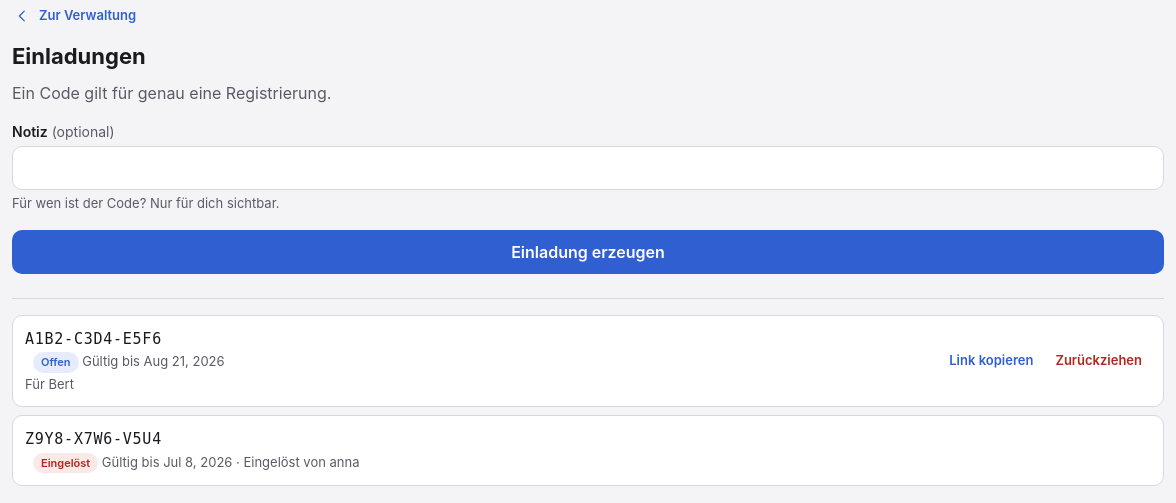
Test: the administration › copies a registration link rather than the bare code
The width and height of the screenshot is (1176, 503).
Check: the text "A1B2-C3D4-E5F6" is shown, box [25, 330, 162, 348]
Click the button "Link kopieren" at (991,361), box [940, 345, 1042, 377]
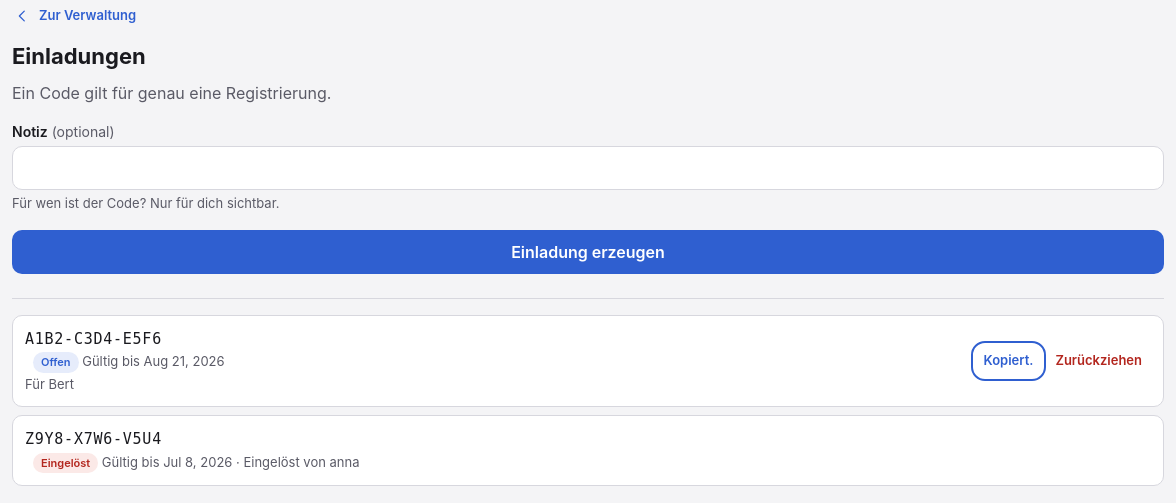
Check: the button "Kopiert." is shown, box [974, 345, 1042, 377]
